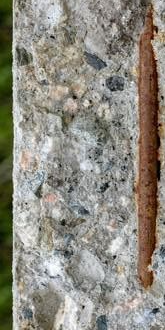Exposed reinforcement: (137, 5, 159, 289)
Spalling: (12, 1, 165, 330)
